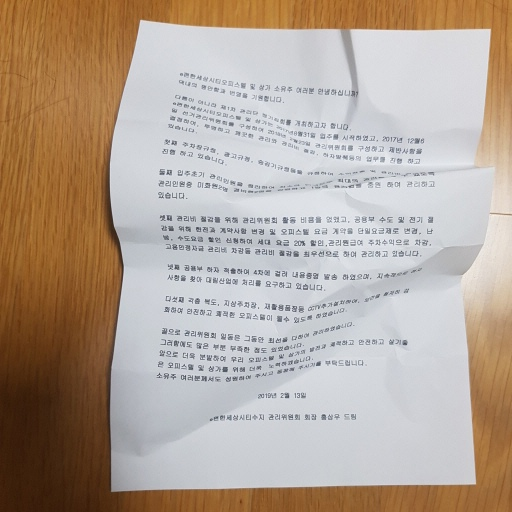Paper_3: (97, 4, 499, 499)
